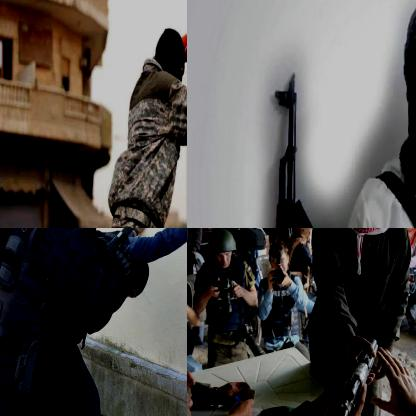pistol: (105, 228, 140, 278)
rifle: (266, 68, 338, 227), (332, 336, 388, 415)
